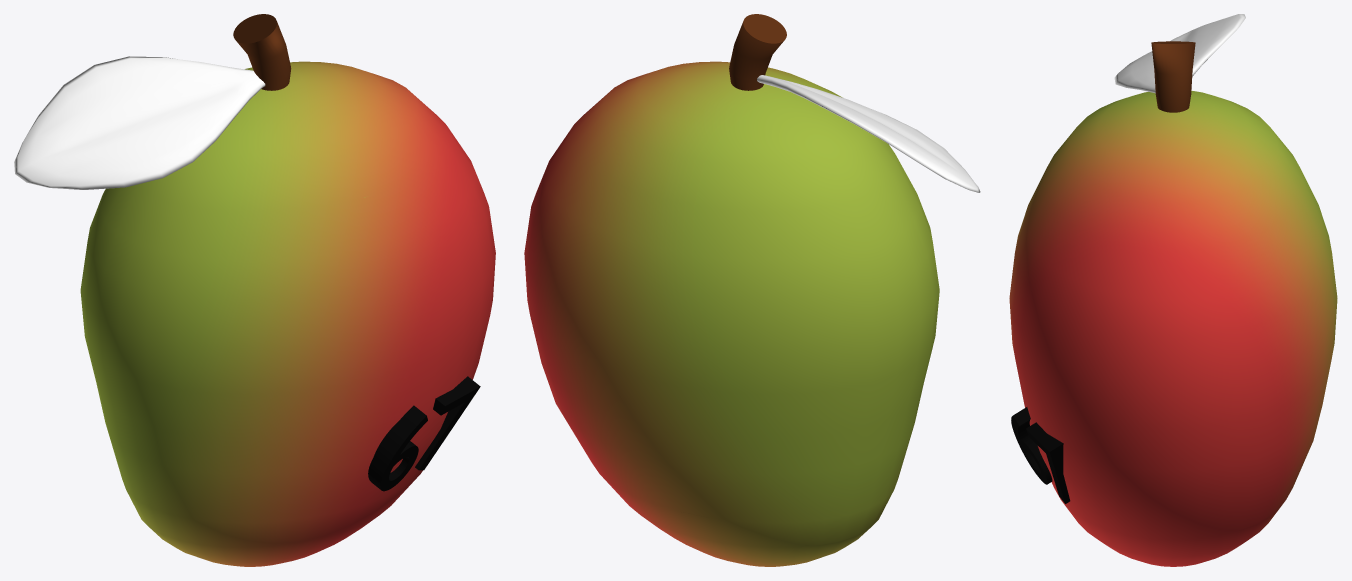
File: mango67.glb
3 renders of one model, left to right at view 1: azimuth 30°, elevation 25°; view 2: azimuth 150°, elevation 25°; view 3: azimuth 270°, elevation 25°, orthographic. The views are drawn at different scales.
Visible parts, largest first — view 1: Mango, Leaf, 67, Stem; view 2: Mango, Leaf, Stem; view 3: Mango, Leaf, Stem, 67.
Part boxes in pixels (<box>): Mango: <box>80,61,495,566</box>; Leaf: <box>14,56,265,189</box>; 67: <box>368,376,480,491</box>; Stem: <box>233,14,291,90</box>; Mango: <box>524,61,939,566</box>; Leaf: <box>757,75,980,192</box>; Stem: <box>729,14,786,90</box>; Mango: <box>1009,90,1337,566</box>; Leaf: <box>1114,14,1245,93</box>; Stem: <box>1151,41,1195,112</box>; 67: <box>1011,407,1070,503</box>.
Bounding box in the file's own units: 3.77 × 4.29 × 2.49.
Materials: 4 (1 with a texture image).
